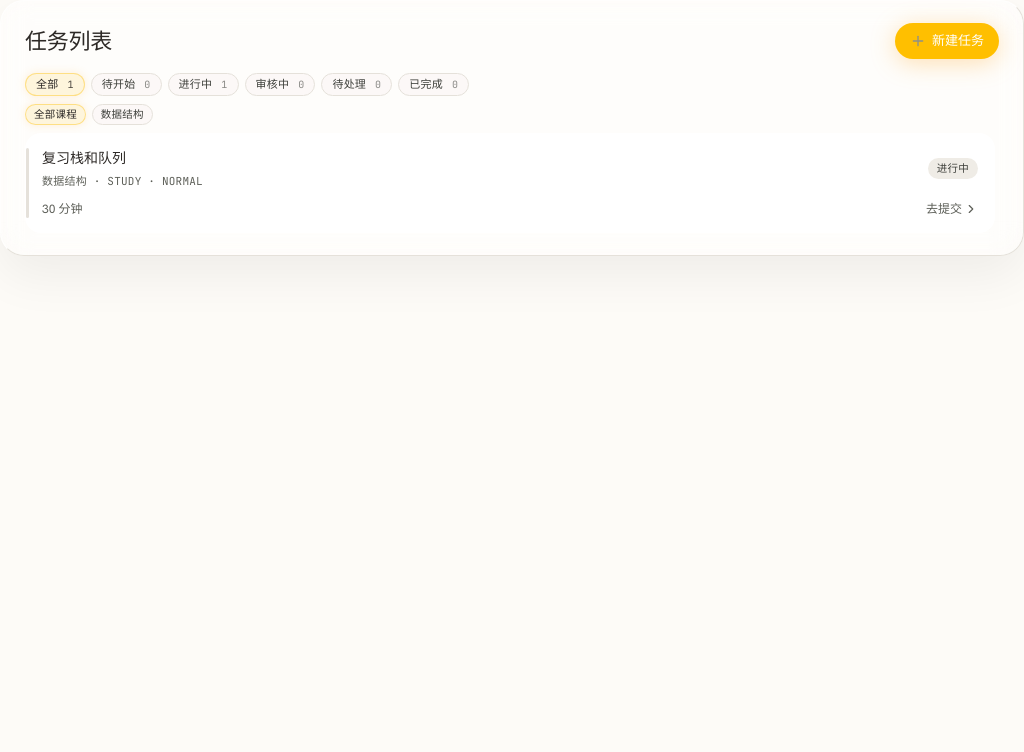
it: TasksPage › shows server error inline when submission fails
Click the text "复习栈和队列" at [84, 158], box x1=42 y1=149 x2=126 y2=167
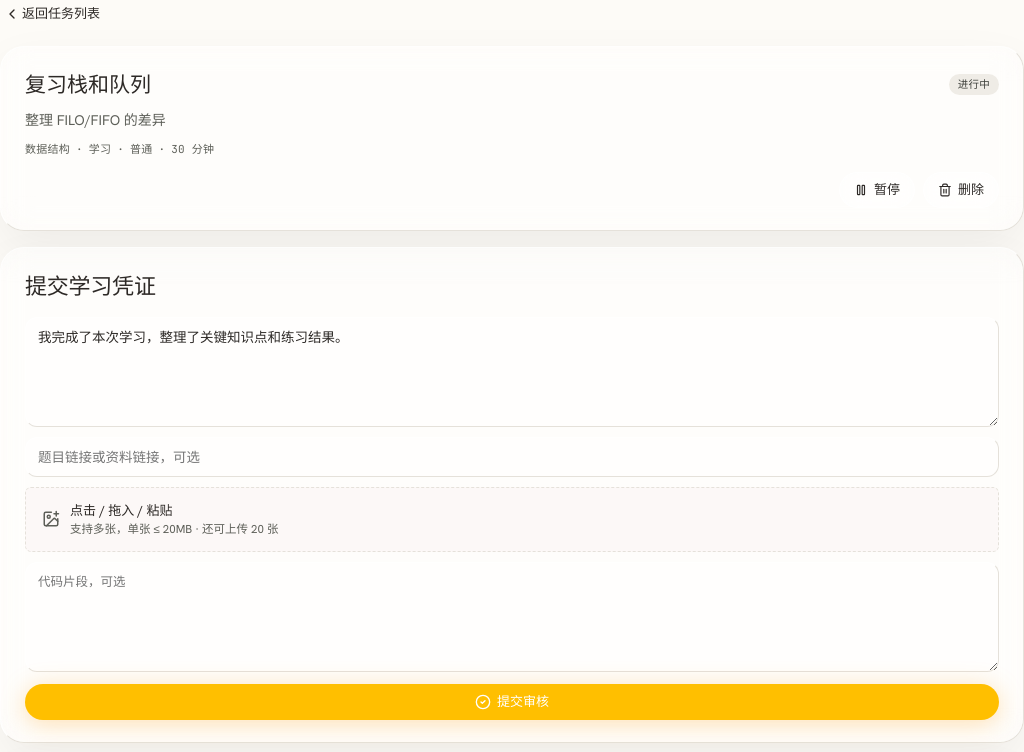
Click the button "提交审核" at [512, 702], box x1=25 y1=684 x2=999 y2=720
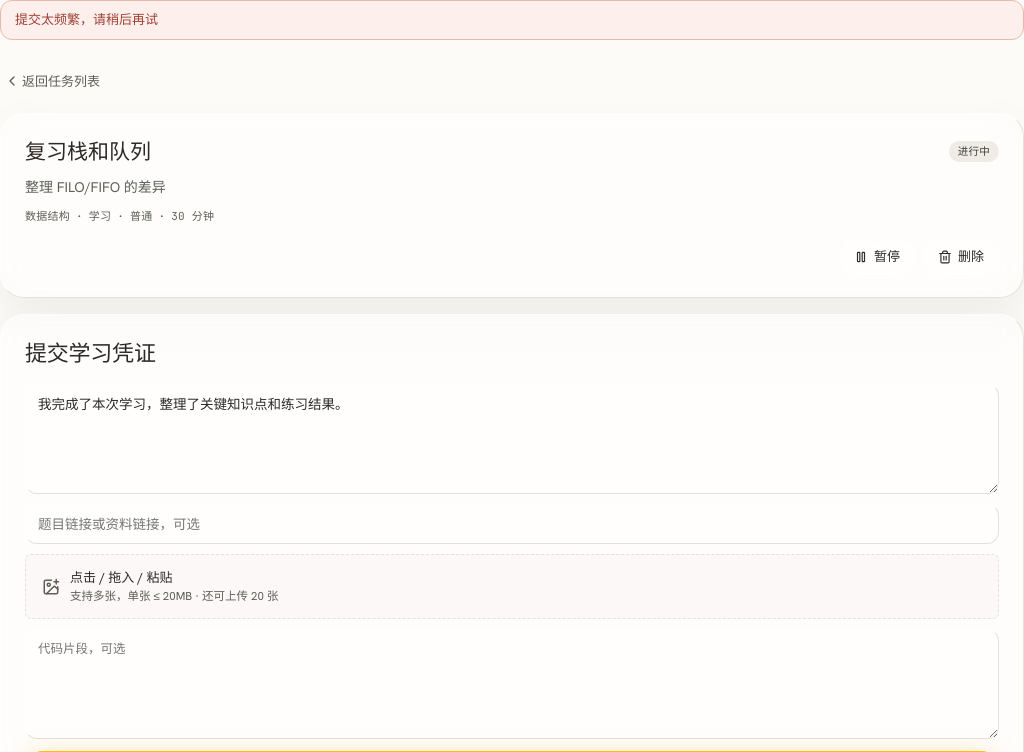
Result: the text "提交太频繁，请稍后再试" is shown at x1=0 y1=0 x2=1023 y2=40
